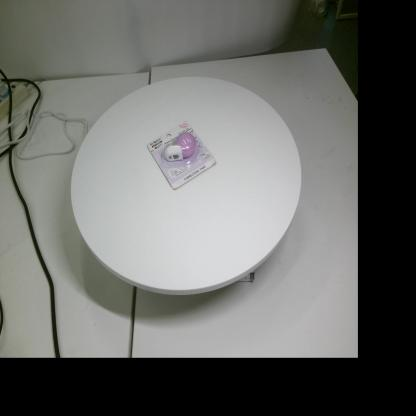Stationery: (146, 121, 216, 190)
